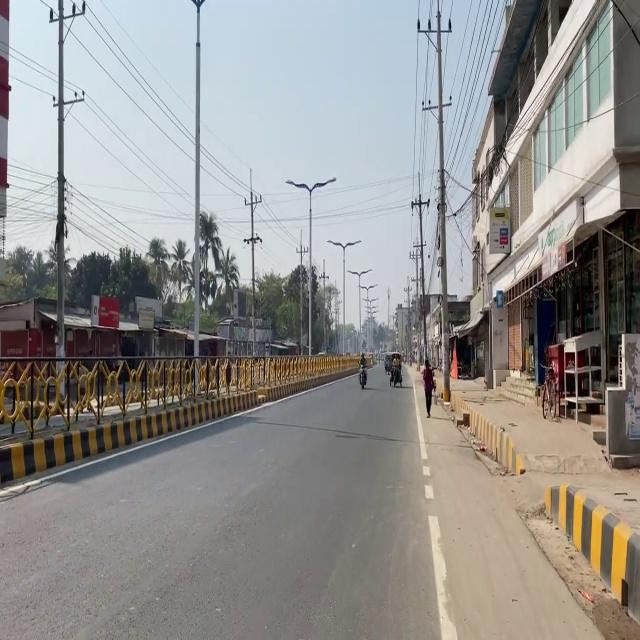Construction-barrier: (543, 481, 639, 624)
Fallen-tree: (389, 365, 401, 387)
Garbage-bin: (422, 359, 435, 418), (358, 352, 367, 386)
Pole: (6, 330, 292, 480)
Pothole: (417, 366, 639, 638)
